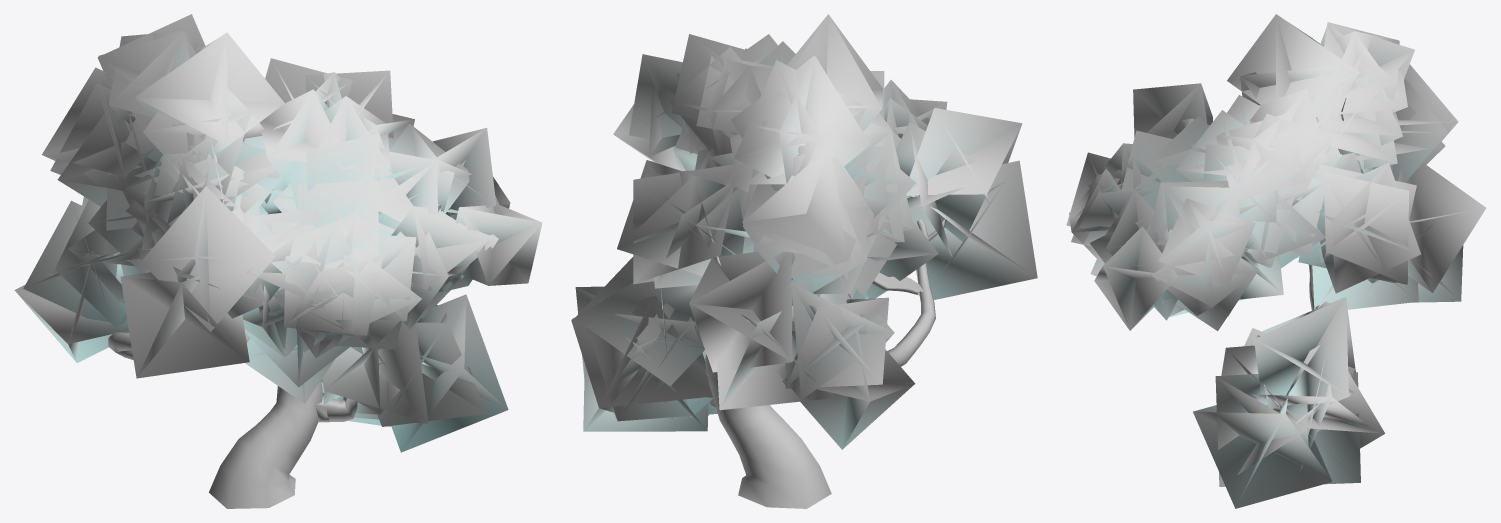
The model's file is LikeYSTreefbx.fbx.
3 views of the same model, side by side, from view 1: azimuth 30°, elevation 25°; view 2: azimuth 150°, elevation 25°; view 3: azimuth 270°, elevation 25° (orthographic). The views are drawn at different scales.
Parts seen in each view (by area): view 1: piece_leaves, piece_trunk; view 2: piece_leaves, piece_trunk; view 3: piece_leaves.
Boxes of the visible parts, x1,y1,x2,y2 form: piece_leaves: (14, 14, 542, 452); piece_trunk: (108, 102, 363, 508); piece_leaves: (571, 14, 1037, 449); piece_trunk: (705, 182, 1004, 508); piece_leaves: (1066, 14, 1486, 508).
Bounding box in the file's own units: 24.47 × 27.26 × 24.29.
